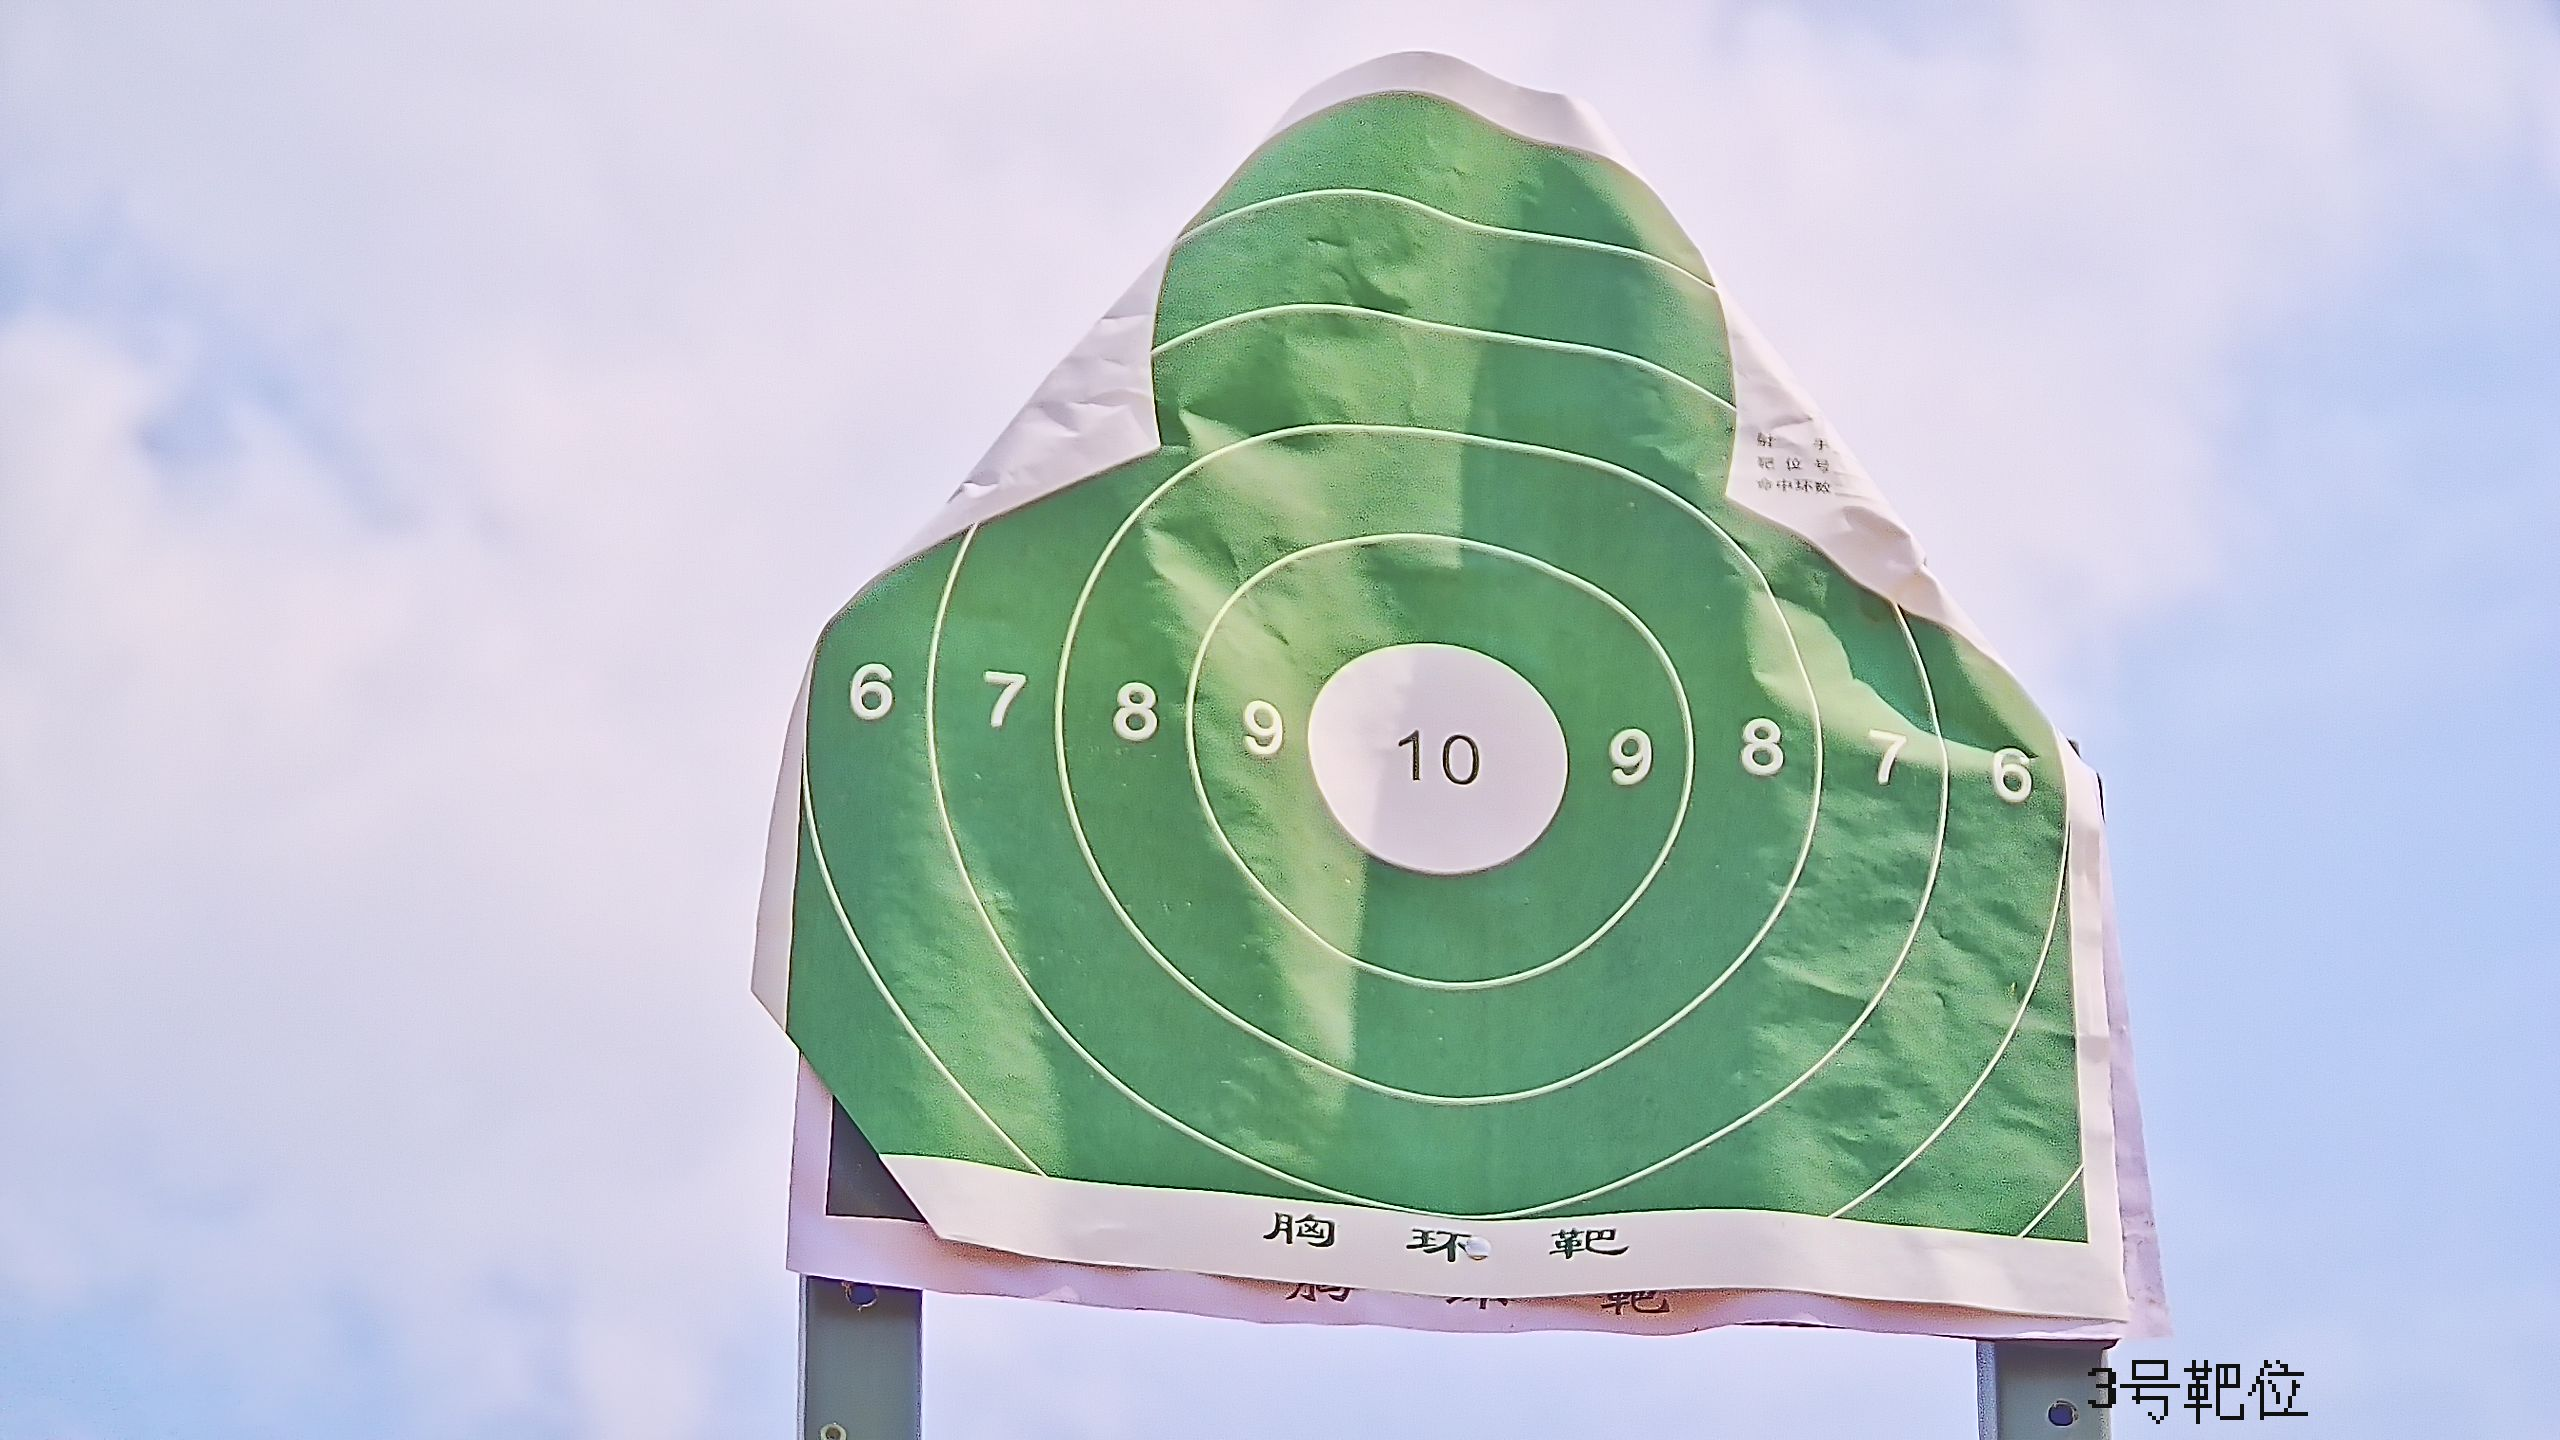kernel: (1429, 754, 1431, 761)
target: (777, 84, 2099, 1247)
ten: (1303, 642, 1568, 876)
